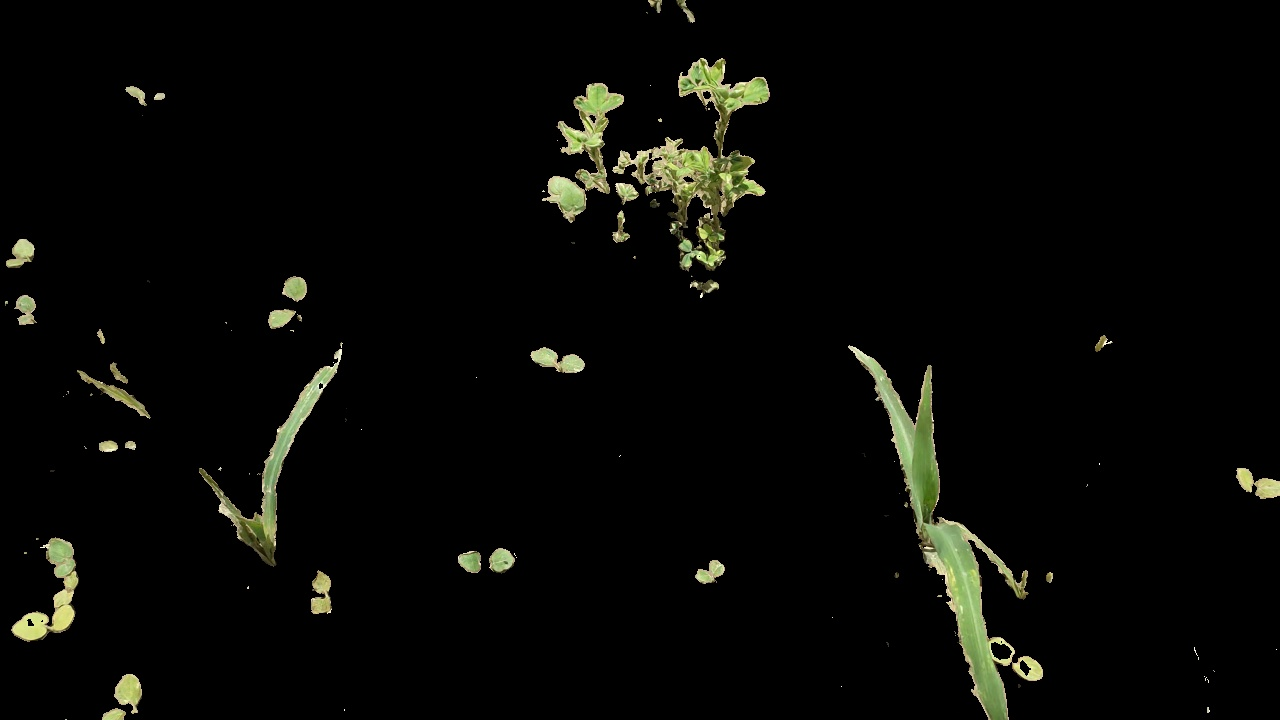crop: (849, 346, 1031, 604), (194, 347, 340, 563)
weed: (540, 55, 777, 304), (11, 538, 79, 642), (991, 635, 1046, 682), (268, 276, 310, 333), (527, 341, 589, 379), (1233, 459, 1279, 504), (101, 672, 144, 720), (120, 77, 177, 110), (460, 550, 514, 576), (1, 234, 37, 271), (310, 571, 335, 614), (10, 291, 39, 327), (693, 557, 726, 588)
